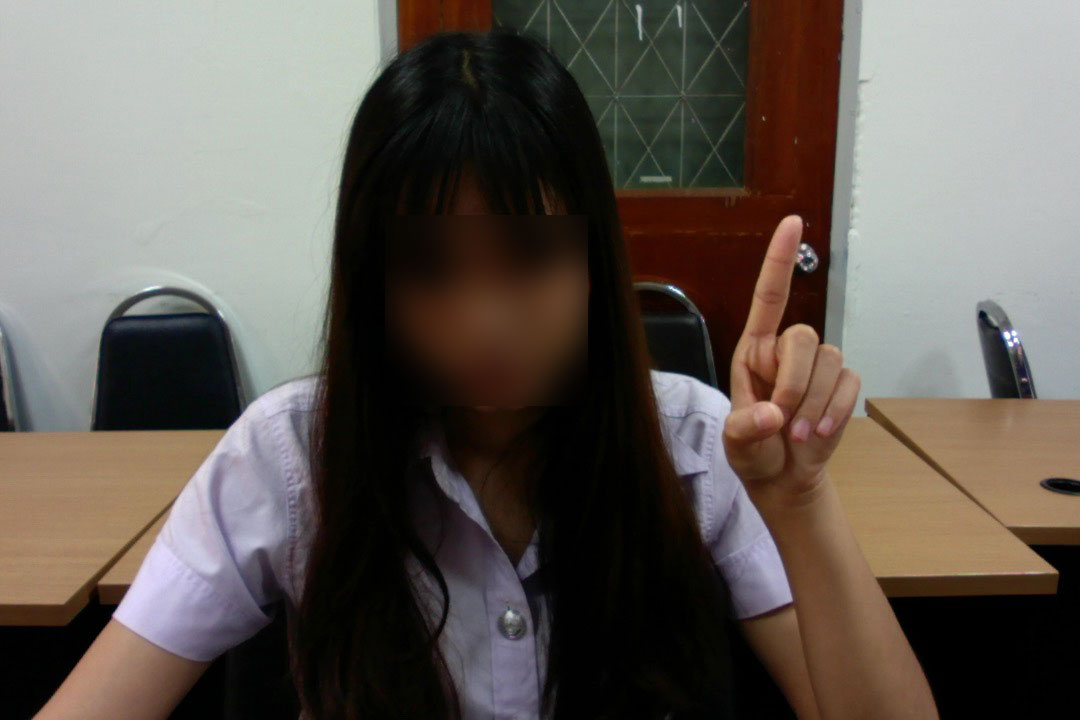dor: (707, 212, 874, 508)
